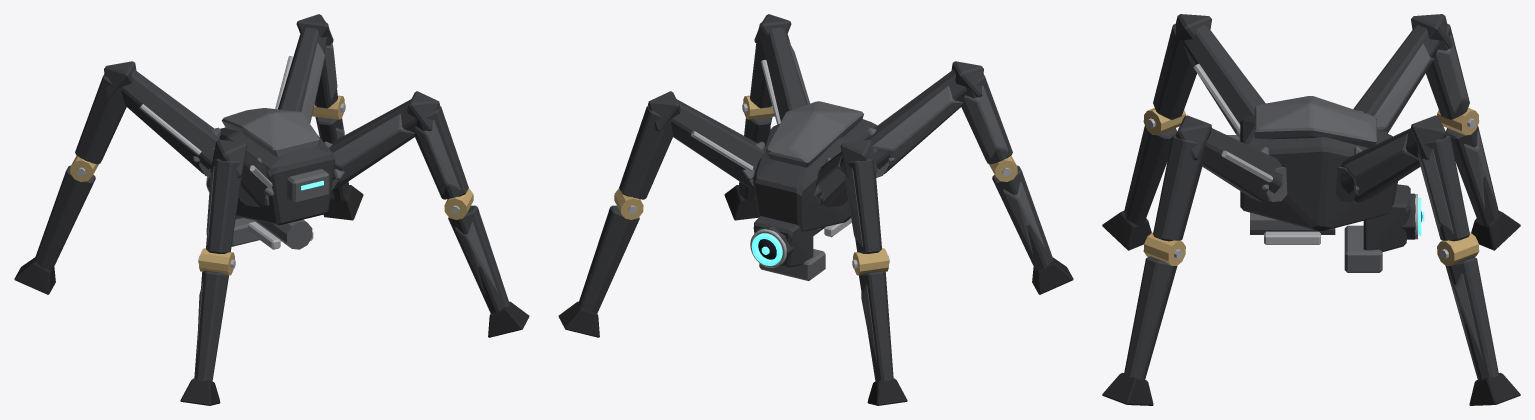
Rendered from leaper.glb.
3 views of the same model, side by side, from view 1: azimuth 30°, elevation 25°; view 2: azimuth 150°, elevation 25°; view 3: azimuth 270°, elevation 25° (orthographic). The views are drawn at different scales.
Parts seen in each view (by area): view 1: body, thigh_1, thigh_3, calf_3, calf_1, thigh_0, calf_2, shin_3, shin_2, shin_1, thigh_2, calf_0 (+5 smaller); view 2: body, thigh_2, thigh_0, calf_0, calf_2, calf_1, thigh_3, shin_0, shin_1, shin_2, thigh_1, calf_3 (+6 smaller); view 3: body, thigh_1, thigh_3, thigh_0, thigh_2, calf_0, calf_3, calf_1, calf_2, shin_0, shin_3, shin_1 (+5 smaller).
Part boxes in pixels (<box>): body: <box>193,108,344,249</box>; thigh_1: <box>104,61,219,177</box>; thigh_3: <box>329,91,439,190</box>; calf_3: <box>448,205,529,337</box>; calf_1: <box>14,165,95,294</box>; thigh_0: <box>275,14,333,123</box>; calf_2: <box>180,270,228,405</box>; shin_3: <box>415,106,468,199</box>; shin_2: <box>206,158,242,253</box>; shin_1: <box>75,74,126,164</box>; thigh_2: <box>210,139,272,207</box>; calf_0: <box>315,117,363,220</box>; body: <box>742,101,894,280</box>; thigh_2: <box>869,61,983,177</box>; thigh_0: <box>648,91,764,188</box>; calf_0: <box>558,205,639,337</box>; calf_2: <box>992,165,1073,294</box>; calf_1: <box>859,270,907,405</box>; thigh_3: <box>754,14,809,124</box>; shin_0: <box>619,106,672,199</box>; shin_1: <box>845,158,881,253</box>; shin_2: <box>961,74,1012,164</box>; thigh_1: <box>815,139,877,207</box>; calf_3: <box>724,117,772,220</box>; body: <box>1227,96,1415,272</box>; thigh_1: <box>1353,14,1452,133</box>; thigh_3: <box>1175,115,1287,202</box>; thigh_0: <box>1336,115,1447,202</box>; thigh_2: <box>1170,14,1265,134</box>; calf_0: <box>1445,256,1520,405</box>; calf_3: <box>1102,256,1177,405</box>; calf_1: <box>1446,126,1520,250</box>; calf_2: <box>1102,126,1176,250</box>; shin_0: <box>1417,135,1469,241</box>; shin_3: <box>1153,135,1205,241</box>; shin_1: <box>1425,24,1469,119</box>.
Size of the model in its own units: 6.36 by 3.99 by 5.96.
